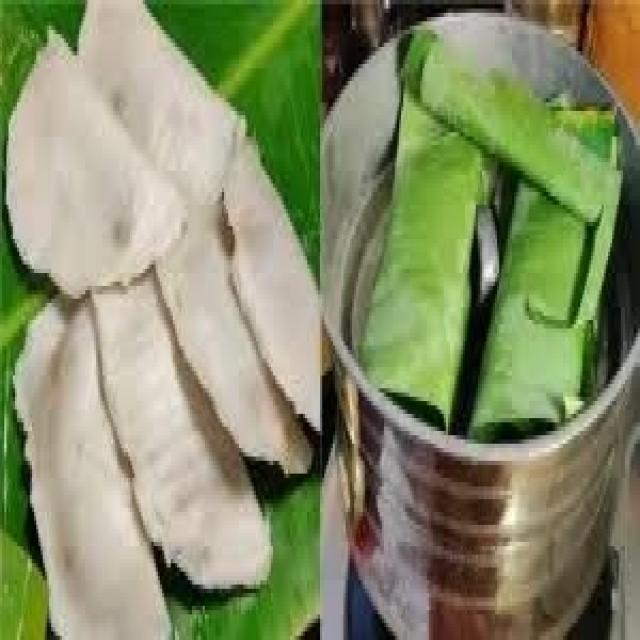poorna kolukattai: (0, 0, 318, 640)
